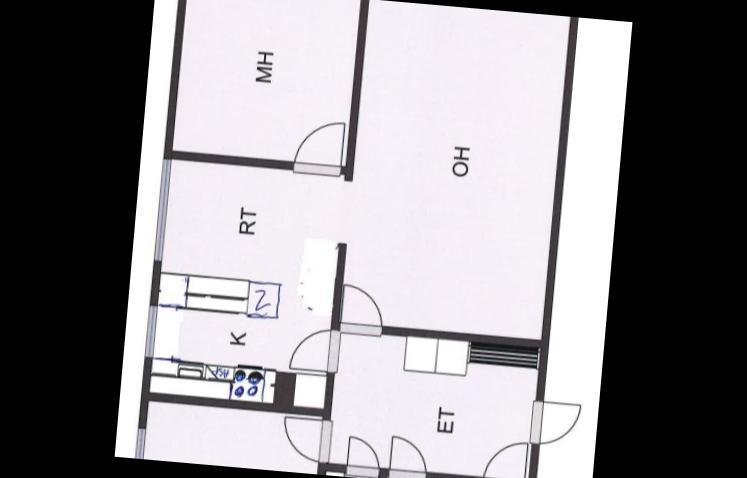door: (292, 112, 348, 176), (337, 279, 388, 342), (526, 394, 584, 447), (280, 412, 333, 464), (288, 322, 338, 374), (480, 436, 532, 478), (386, 432, 432, 478), (345, 431, 385, 478)
window: (151, 153, 176, 267), (141, 298, 162, 361), (131, 418, 151, 459)
